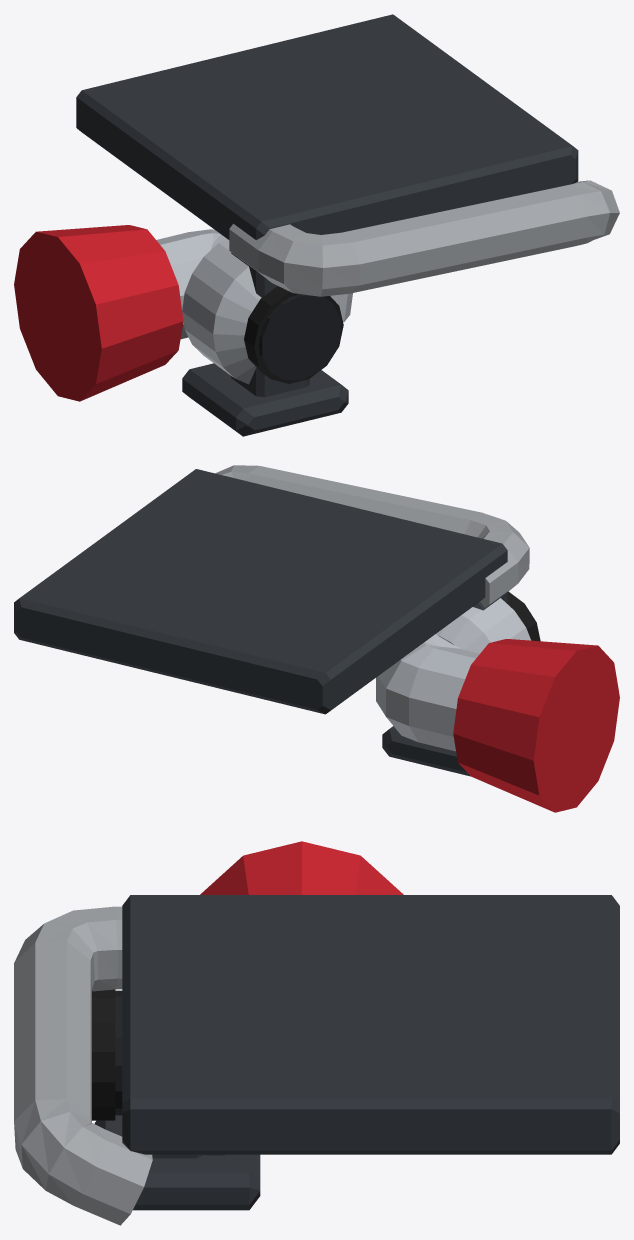
File: kaze_gt_supercharger.glb
3 renders of one model, top to bottom at view 1: azimuth 30°, elevation 25°; view 2: azimuth 150°, elevation 25°; view 3: azimuth 270°, elevation 25°, orthographic. The views are drawn at different scales.
Visible parts, largest first — view 1: model; view 2: model; view 3: model.
Part boxes in pixels (box(x1,y1,x2,y2)): model: box(14, 14, 619, 436); model: box(14, 465, 619, 812); model: box(14, 841, 619, 1225).
Bounding box in the file's own units: 0.5286 × 0.215 × 0.4383.
3 materials, 1 textured.
